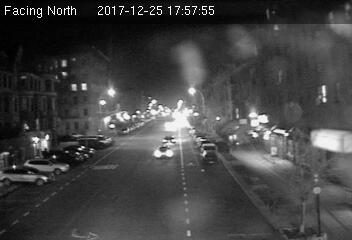car: (199, 149, 220, 165), (153, 145, 175, 159), (160, 135, 177, 145)
